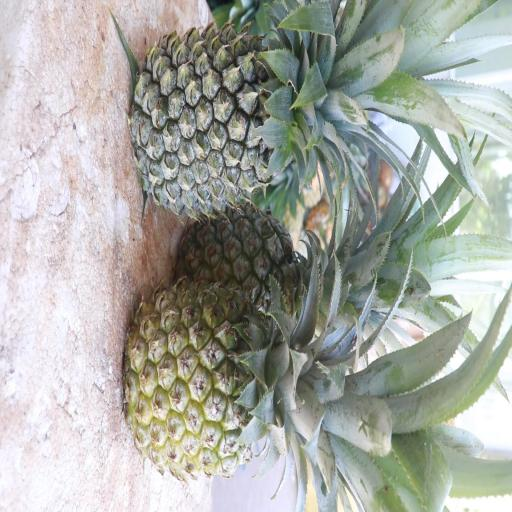------------------------------: (118, 272, 354, 486), (172, 199, 372, 355)
